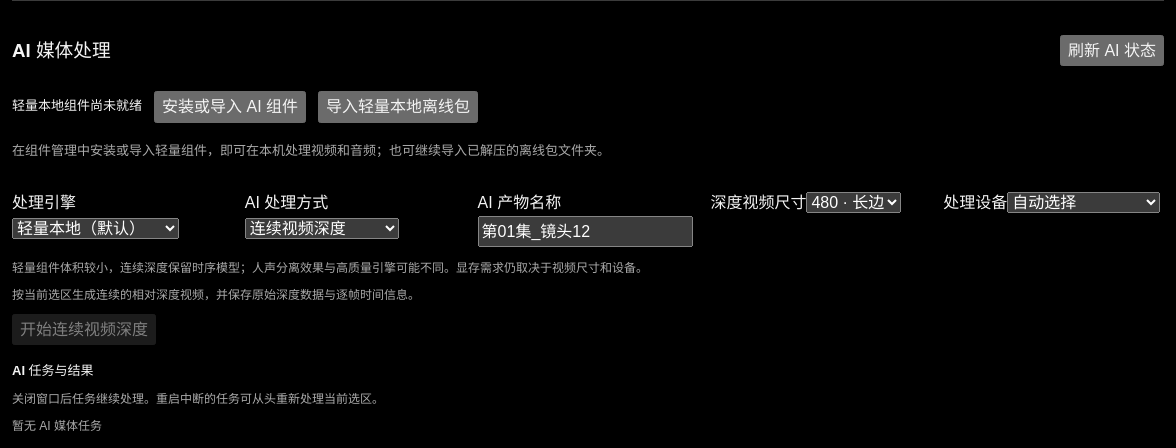
AiMediaPanel › opens unified component management and restores readiness without starting a task
Expected: the text "轻量本地组件尚未就绪" is shown, x1=12 y1=96 x2=142 y2=117
Replace the text in the field labelled "AI 产物名称" with "保留我的镜头名称". click: [585, 231]
box: x1=478 y1=216 x2=693 y2=247
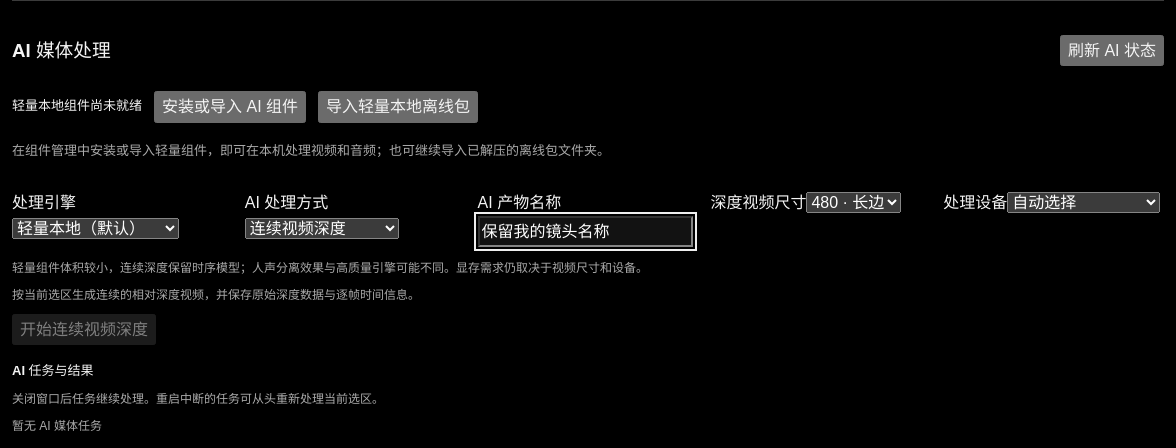
Click the button "安装或导入 AI 组件". click: [230, 107]
box: x1=154 y1=91 x2=306 y2=123
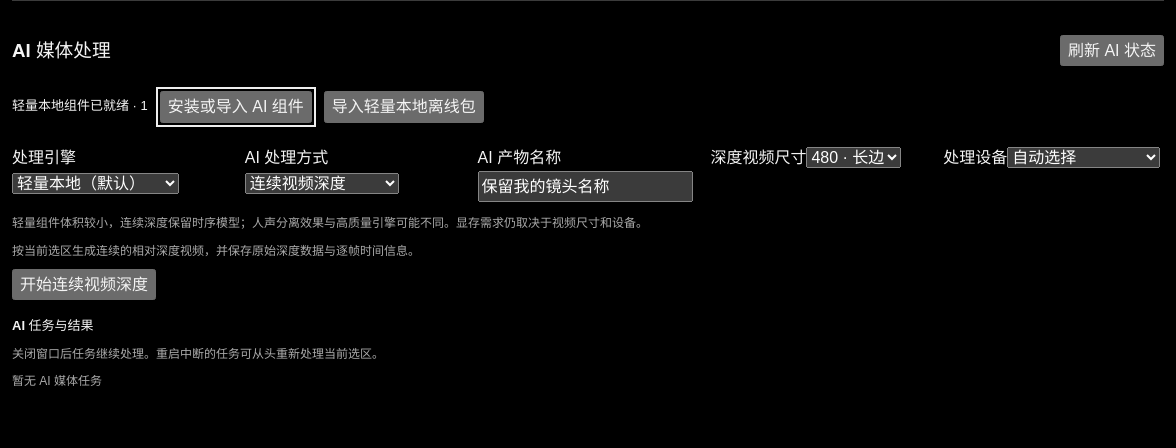
Now the button "开始连续视频深度" is enabled, box x1=12 y1=269 x2=156 y2=300
